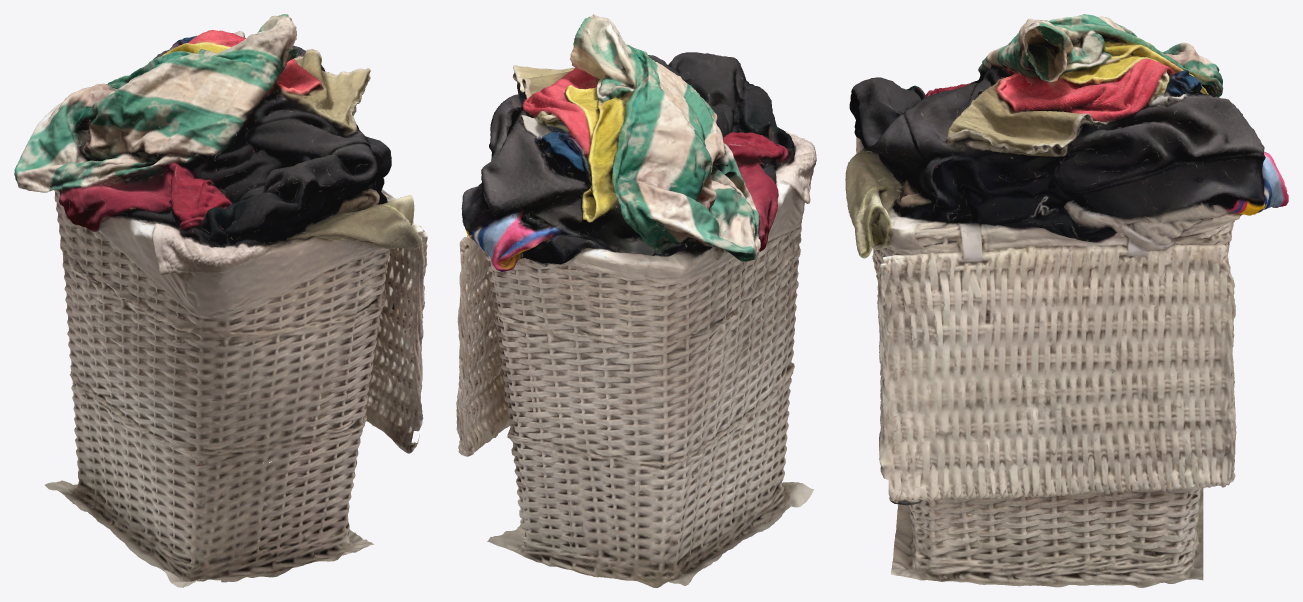
The model's file is laundry_basket2.glb.
3 views of the same model, side by side, from view 1: azimuth 30°, elevation 25°; view 2: azimuth 150°, elevation 25°; view 3: azimuth 270°, elevation 25° (orthographic). The views are drawn at different scales.
Visible parts, largest first — view 1: Object_4, Object_5, Object_6, Object_8, Object_10, Object_7, Object_9; view 2: Object_9, Object_4, Object_5, Object_6, Object_7, Object_8, Object_10; view 3: Object_6, Object_5, Object_7, Object_8, Object_9, Object_4, Object_10.
Boxes of the visible parts, left/top/right/bottom form: Object_4: left=15, top=16, right=415, bottom=578; Object_5: left=17, top=14, right=423, bottom=550; Object_6: left=14, top=15, right=427, bottom=575; Object_8: left=15, top=16, right=427, bottom=587; Object_10: left=15, top=18, right=426, bottom=585; Object_7: left=19, top=16, right=427, bottom=582; Object_9: left=29, top=16, right=426, bottom=582; Object_9: left=456, top=21, right=810, bottom=587; Object_4: left=456, top=14, right=816, bottom=579; Object_5: left=457, top=16, right=812, bottom=568; Object_6: left=456, top=15, right=816, bottom=574; Object_7: left=457, top=17, right=814, bottom=573; Object_8: left=457, top=15, right=814, bottom=587; Object_10: left=456, top=14, right=814, bottom=585; Object_6: left=849, top=15, right=1284, bottom=587; Object_5: left=845, top=16, right=1288, bottom=586; Object_7: left=845, top=14, right=1275, bottom=585; Object_8: left=851, top=17, right=1288, bottom=585; Object_9: left=845, top=18, right=1288, bottom=585; Object_4: left=846, top=14, right=1266, bottom=587; Object_10: left=846, top=17, right=1287, bottom=585.
Size of the model in its own units: 0.4835 by 0.7756 by 0.5577.
Materials: 1 (1 with a texture image).
